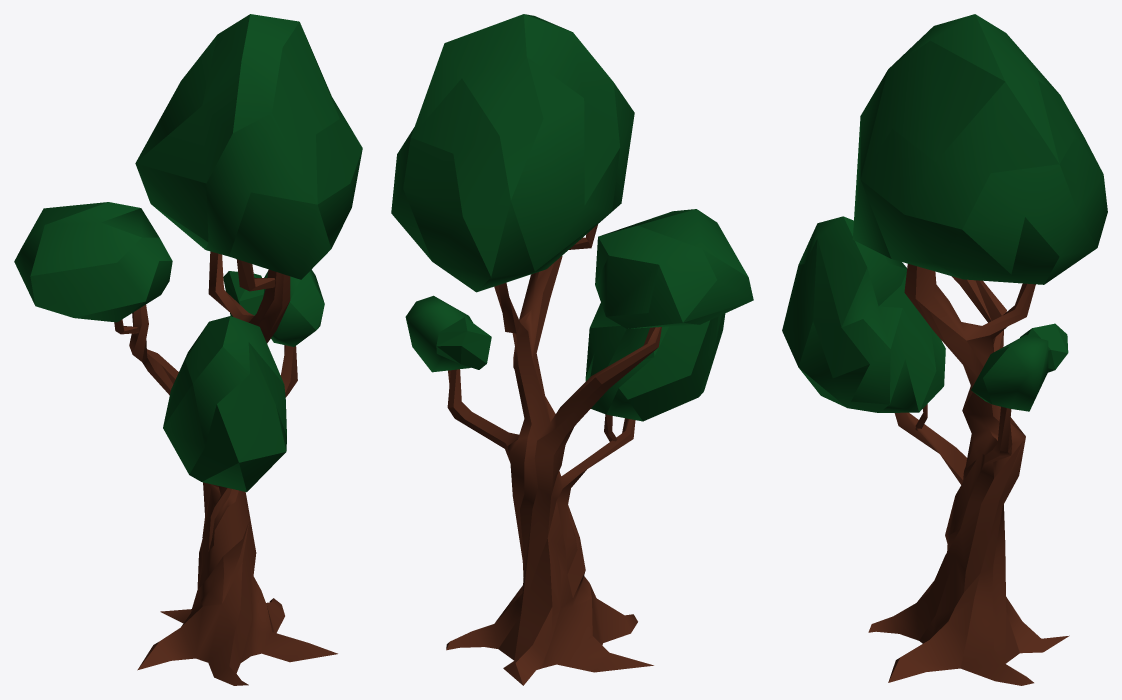
The model's file is Tree_4a.fbx.
The picture shows the model from 3 angles, left to right: view 1: azimuth 30°, elevation 25°; view 2: azimuth 150°, elevation 25°; view 3: azimuth 270°, elevation 25°; orthographic projection. The views are drawn at different scales.
Visible parts, largest first — view 1: Tree_4a; view 2: Tree_4a; view 3: Tree_4a.
Part boxes in pixels (x1,y1,x2,y2): Tree_4a: [14, 14, 362, 685]; Tree_4a: [391, 14, 753, 685]; Tree_4a: [782, 14, 1107, 685].
Bounding box in the file's own units: 159 × 288 × 131.
